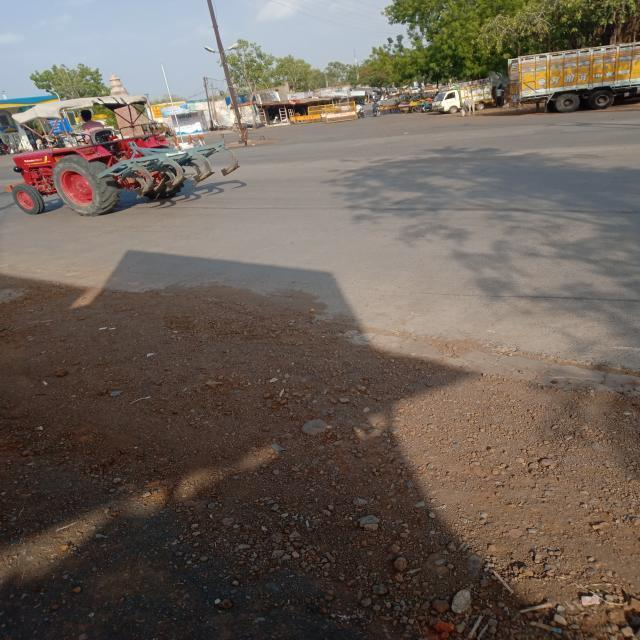tractor_back: (0, 82, 249, 220)
